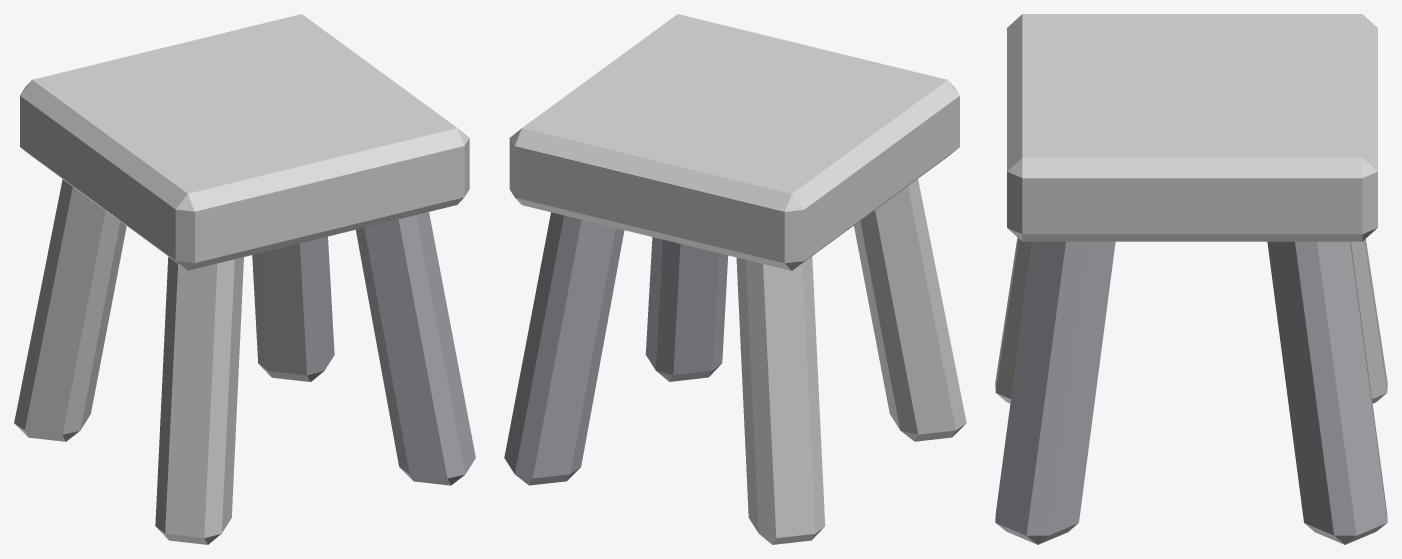
The model's file is chair_b_130.gltf.
3 renders of one model, left to right at view 1: azimuth 30°, elevation 25°; view 2: azimuth 150°, elevation 25°; view 3: azimuth 270°, elevation 25°, orthographic. The views are drawn at different scales.
Visible parts, largest first — view 1: chair_b007; view 2: chair_b007; view 3: chair_b007.
Part boxes in pixels (box(x1,y1,x2,y2)): chair_b007: box(14, 14, 475, 544); chair_b007: box(504, 14, 966, 544); chair_b007: box(995, 14, 1387, 544).
Size of the model in its own units: 0.4226 by 0.4537 by 0.4233.
Materials: 1 (1 with a texture image).
